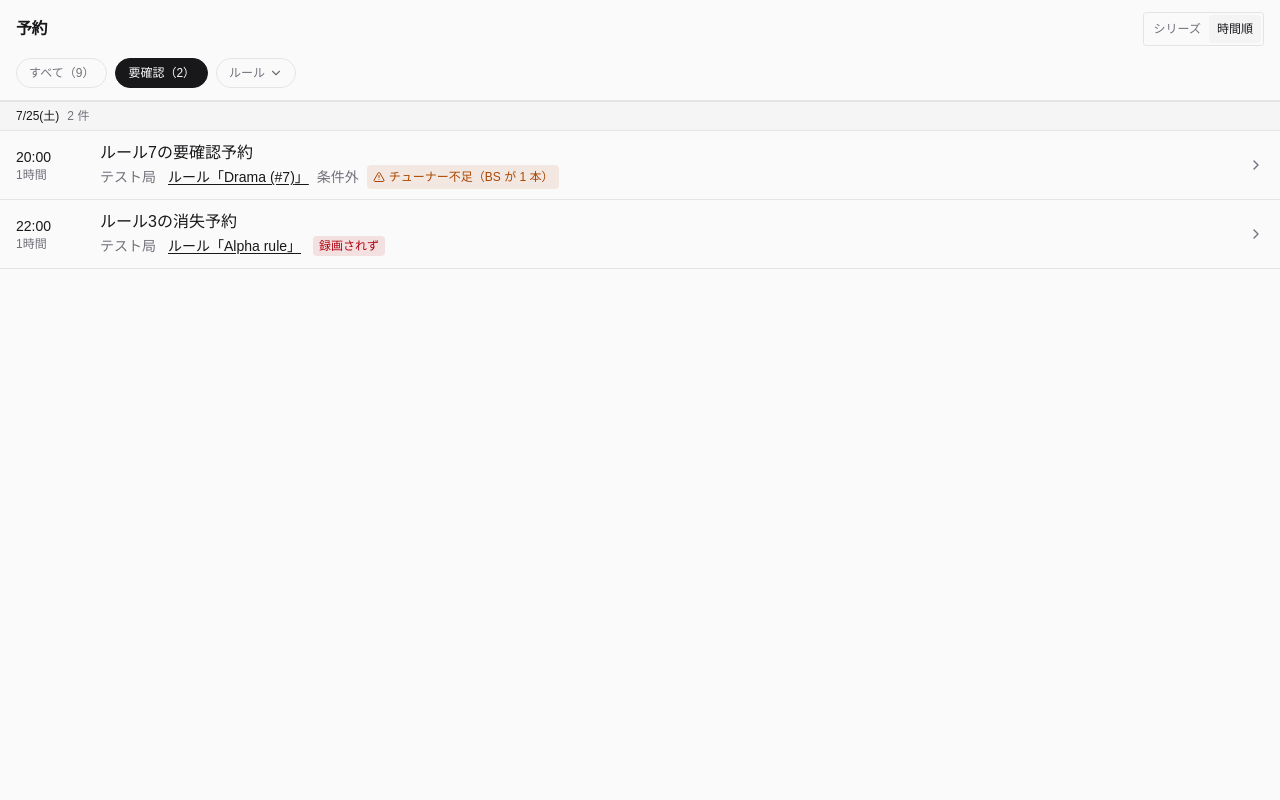
予約一覧の日付見出し・出自・ルールフィルタ（issue #1030） › ルールメニューは全予約の件数順を保ち、要確認とルールを組み合わせられる
Expected: the button "すべて（9）" is shown, [16,58,107,88]
Expected: the button "要確認（2）" is shown, [115,58,208,88]
Click the button with aria-label "ルールで絞り込む" at (256, 73), box [216,58,296,88]
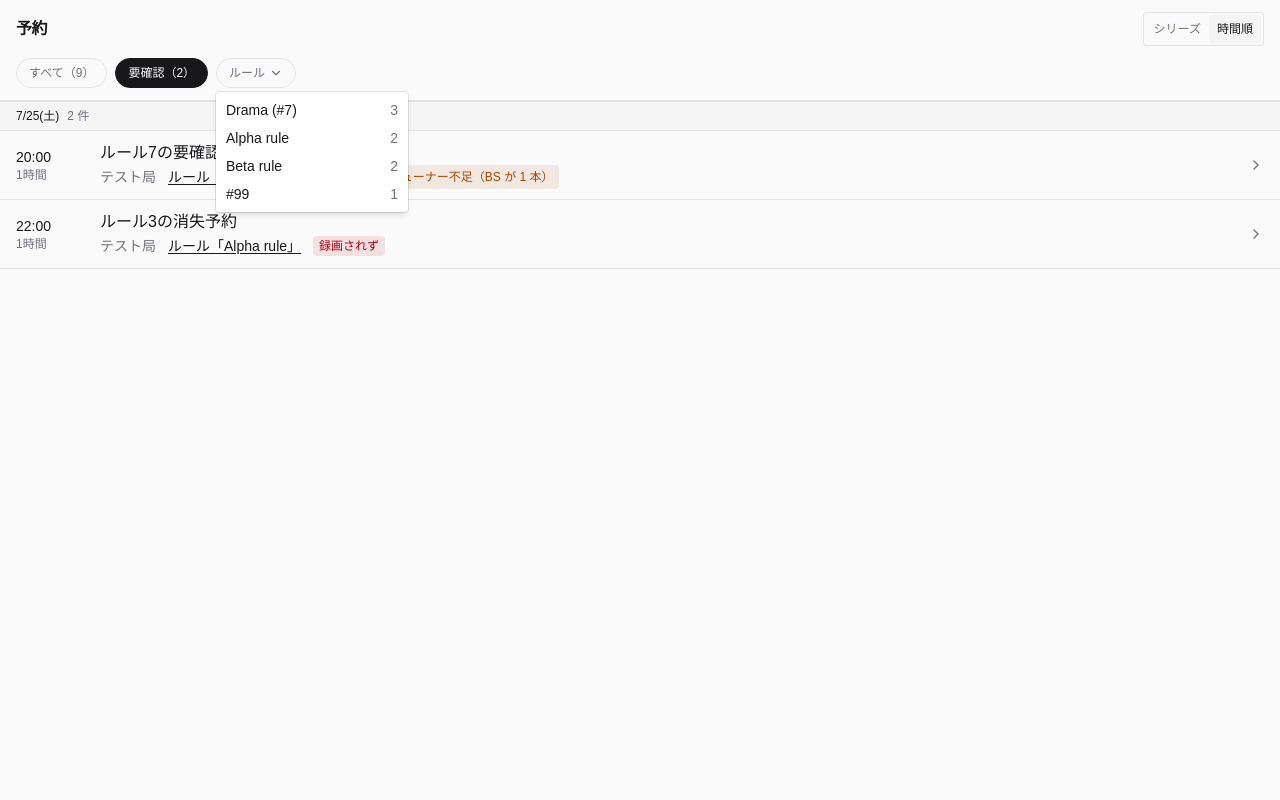
Expected: the menu items read "Drama (#7)3", "Alpha rule2", "Beta rule2", "#991", in this order
Click the menu item "Drama (#7) 3" at (261, 110), box [226,102,398,118]
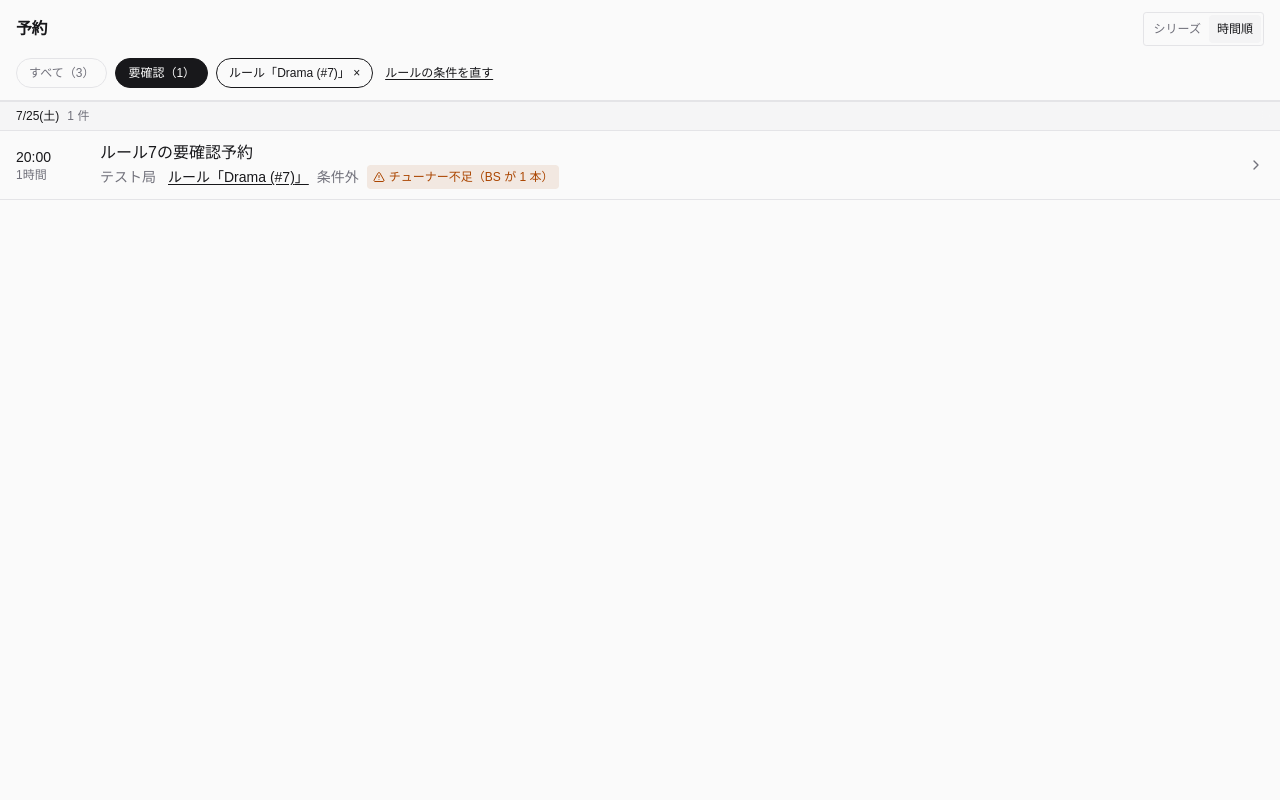
Expected: the text "ルール7の要確認予約" is shown, [100,144,253,161]
Expected: the button "すべて（3）" is shown
Expected: the button "要確認（1）" is shown, [115,58,208,88]
Click the button "すべて（3）" at (62, 73), box [16,58,107,88]
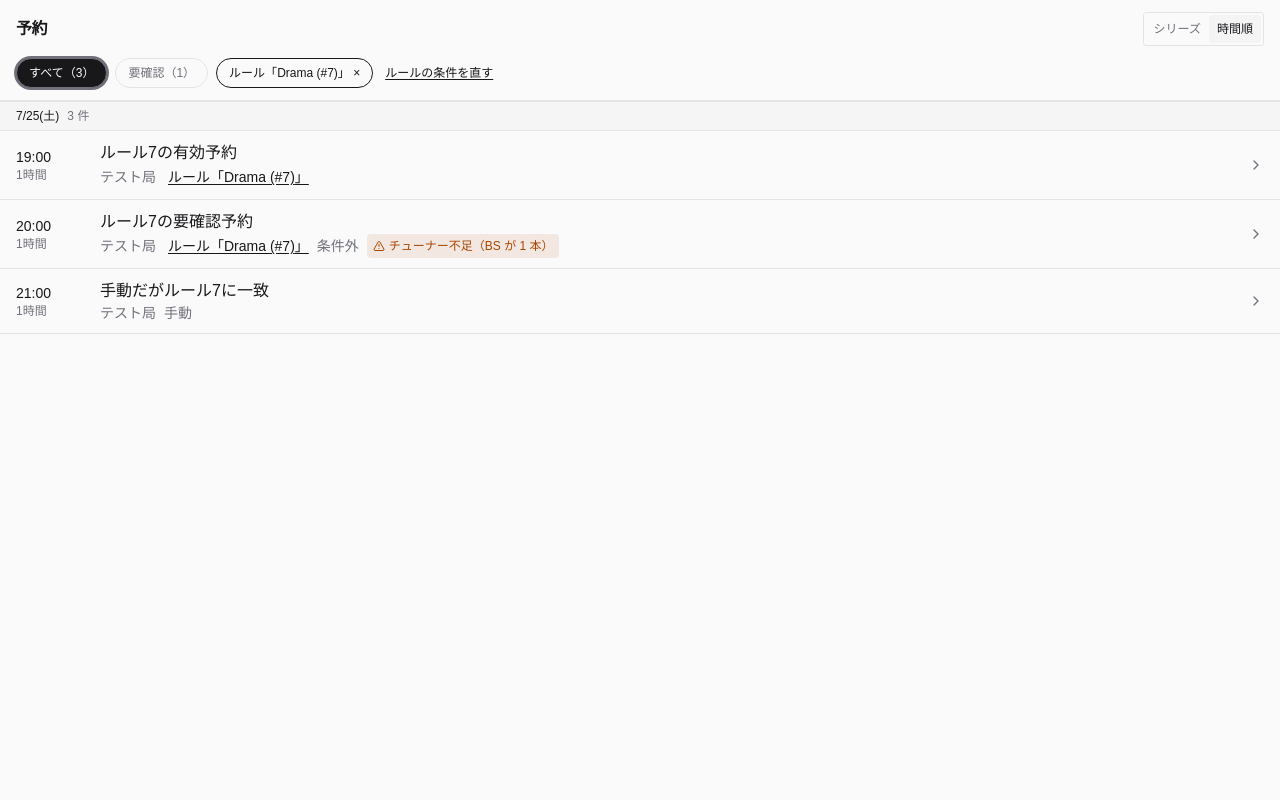
Expected: the text "ルール7の有効予約" is shown, [100,144,237,161]
Expected: the text "手動だがルール7に一致" is shown, [100,282,269,299]
Click the button with aria-label "ルール「Drama (#7)」の絞り込みを解除" at (295, 73), box [216,58,373,88]
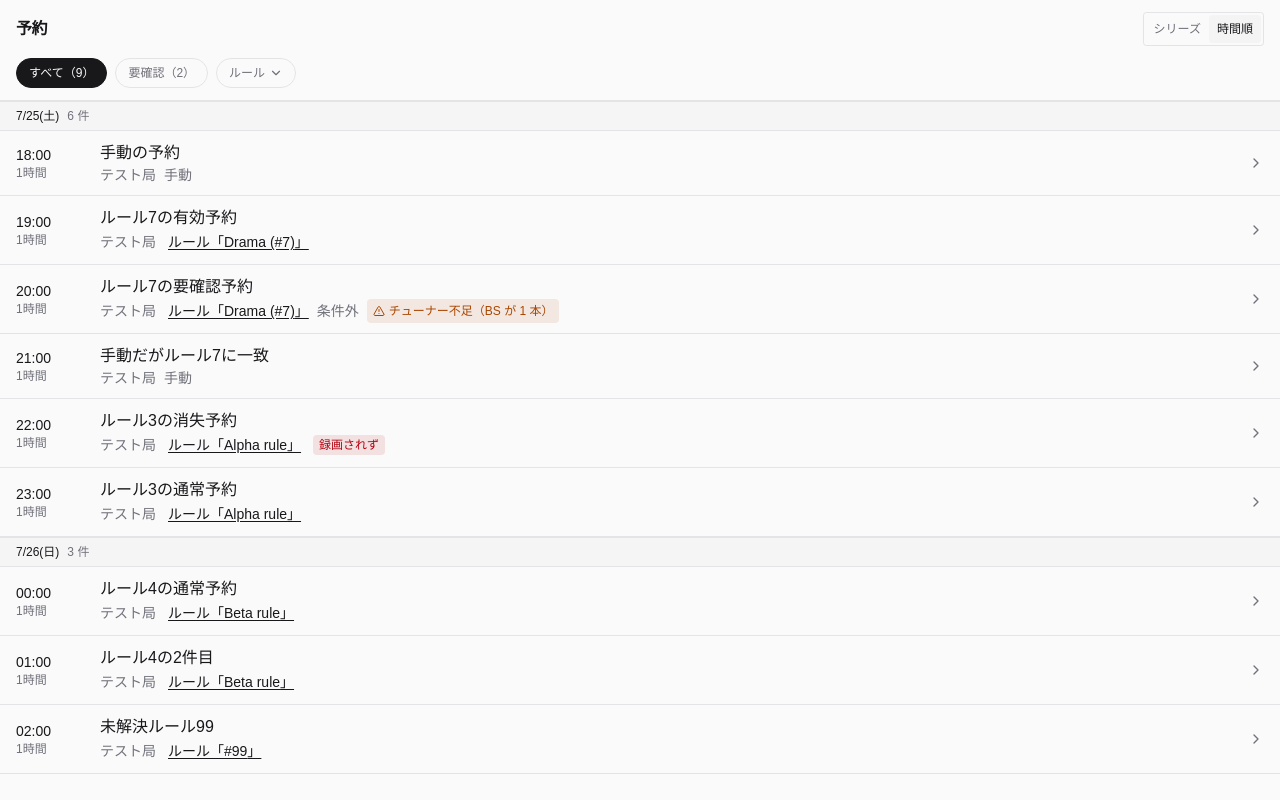
Click the button with aria-label "ルールで絞り込む" at (256, 73), box [216,58,296,88]
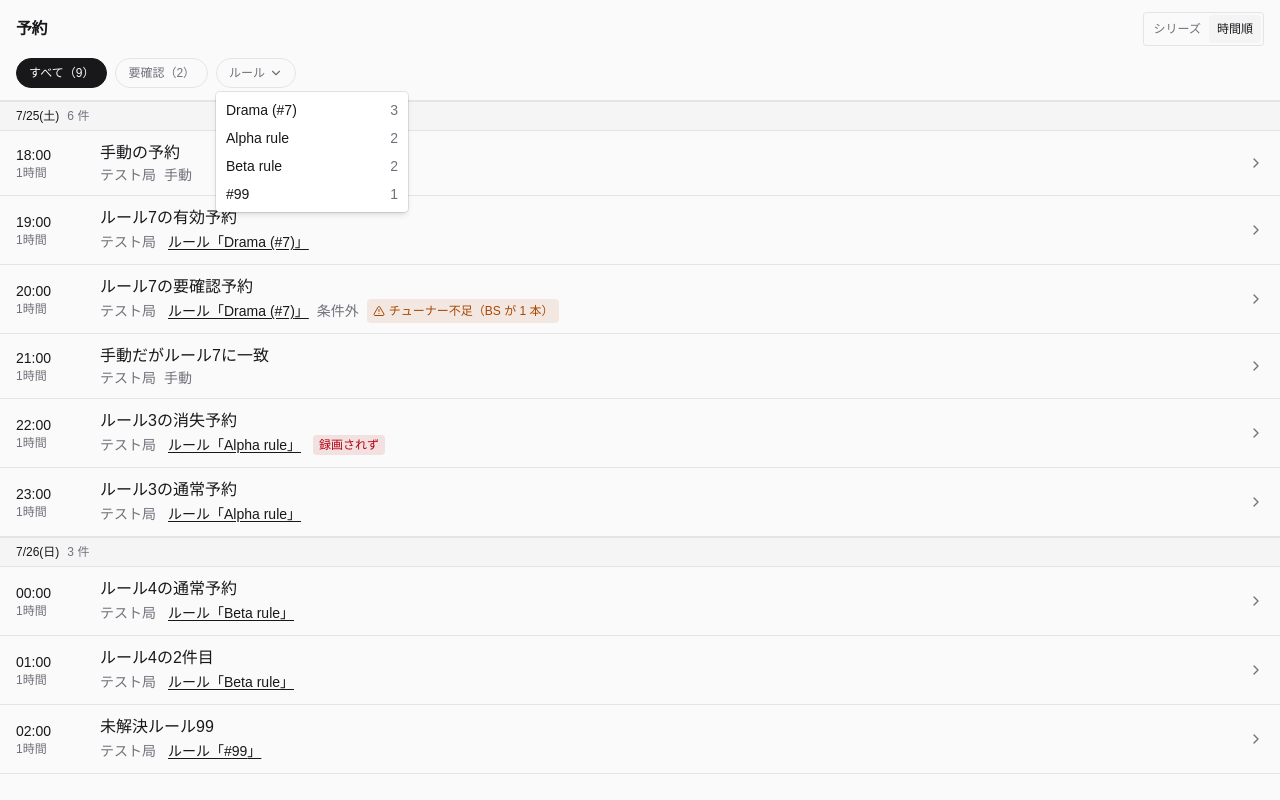
Expected: the menu items read "Drama (#7)3", "Alpha rule2", "Beta rule2", "#991", in this order, [226,102,398,118]; [226,130,398,146]; [226,158,398,174]; [226,186,398,202]
